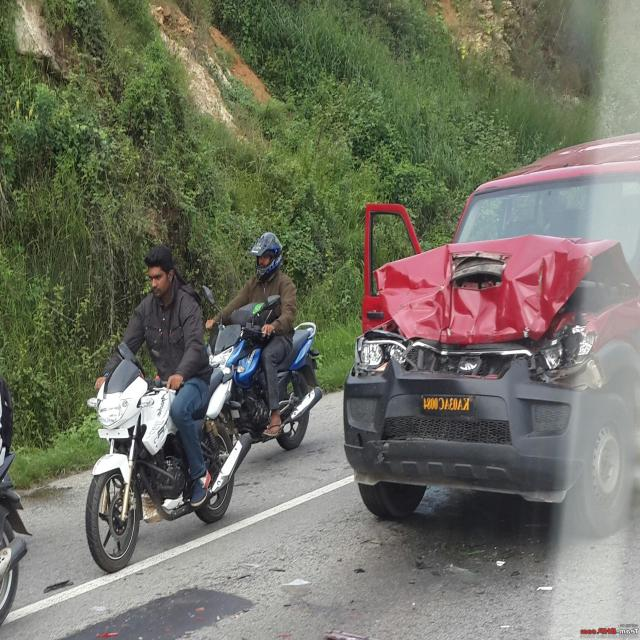accident: (344, 133, 640, 537)
motorcycle: (86, 245, 251, 572), (206, 233, 321, 450)
